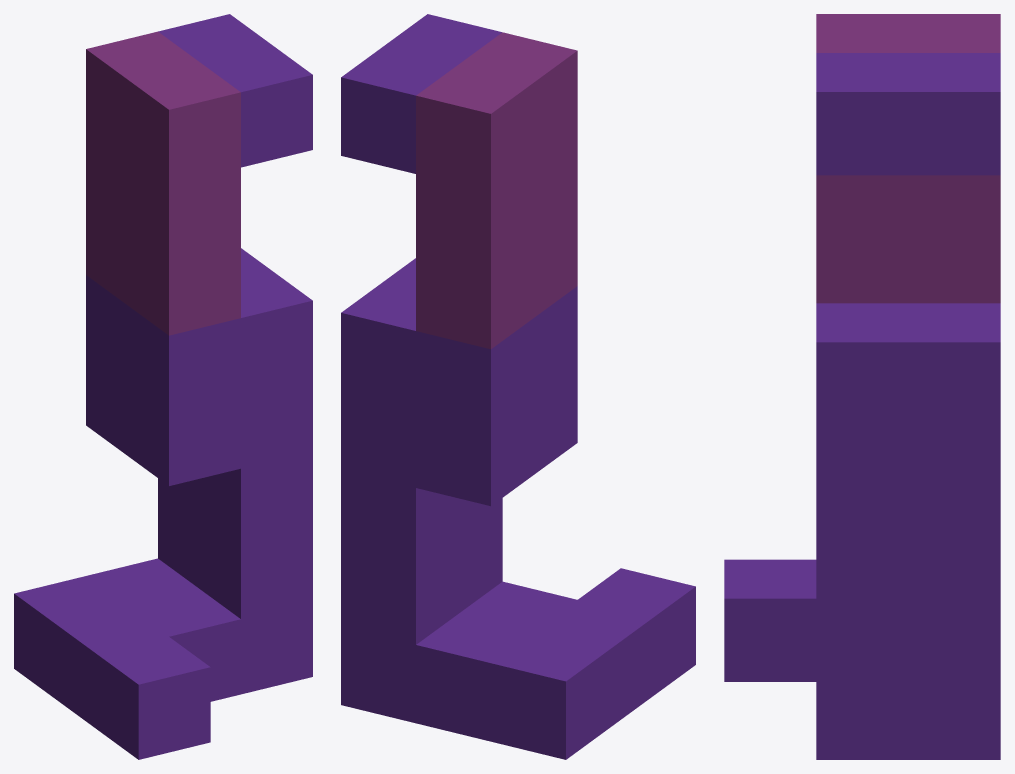
File: snake.obj
The picture shows the model from 3 angles, left to right: view 1: azimuth 30°, elevation 25°; view 2: azimuth 150°, elevation 25°; view 3: azimuth 270°, elevation 25°; orthographic projection. The views are drawn at different scales.
Bounding box in the file's own units: 3 × 8 × 3.
Materials: 1 (1 with a texture image).
